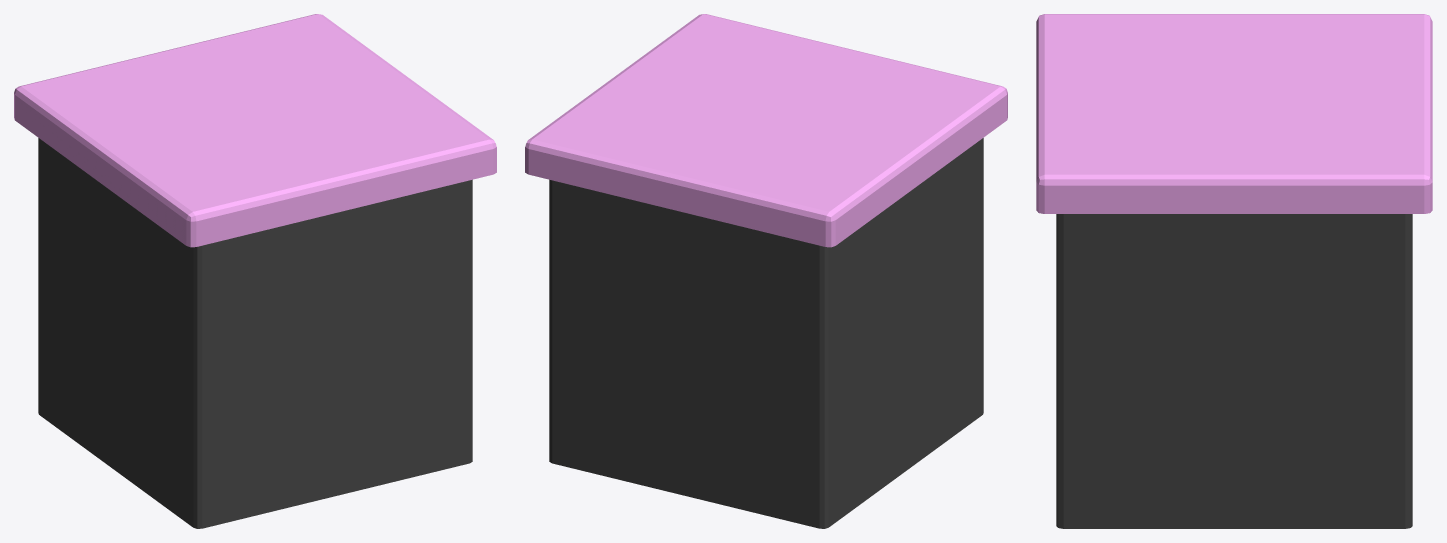
File: Workbench_Motherboard.fbx
3 renders of one model, left to right at view 1: azimuth 30°, elevation 25°; view 2: azimuth 150°, elevation 25°; view 3: azimuth 270°, elevation 25°, orthographic. The views are drawn at different scales.
Visible parts, largest first — view 1: Workbench Motherboard; view 2: Workbench Motherboard; view 3: Workbench Motherboard.
Part boxes in pixels (<box>): Workbench Motherboard: <box>14,14,496,528</box>; Workbench Motherboard: <box>525,14,1007,528</box>; Workbench Motherboard: <box>1036,14,1432,528</box>.
Bounding box in the file's own units: 100 × 100 × 100.
